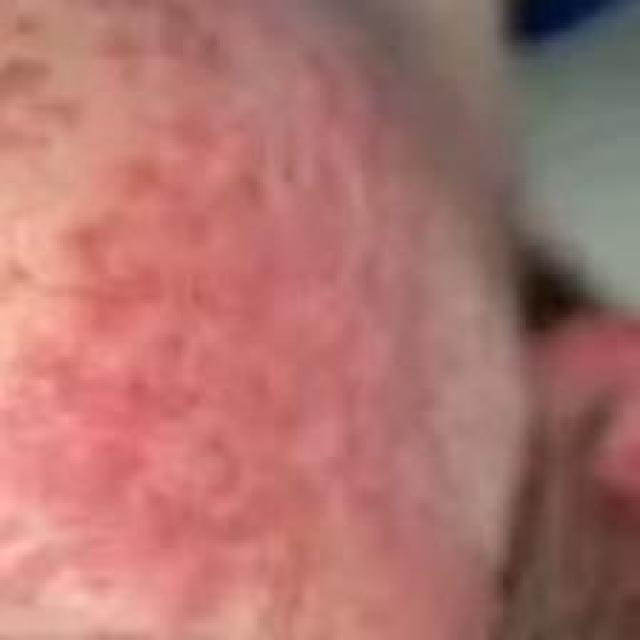others: (0, 0, 620, 609)
